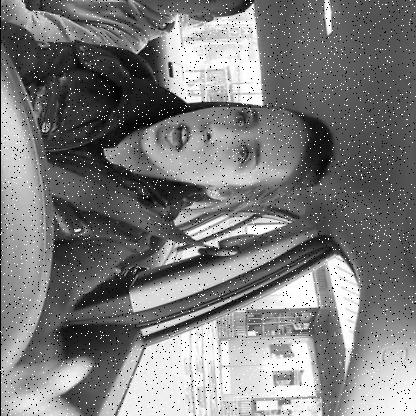seatbelt: (15, 97, 350, 260)
